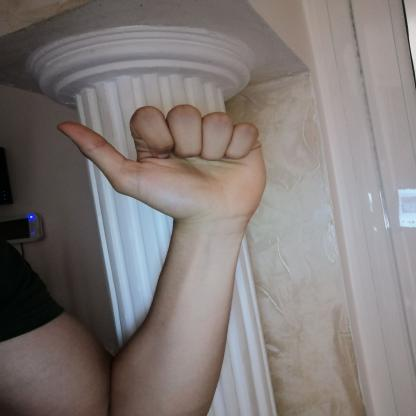DAD: (43, 99, 275, 230)
